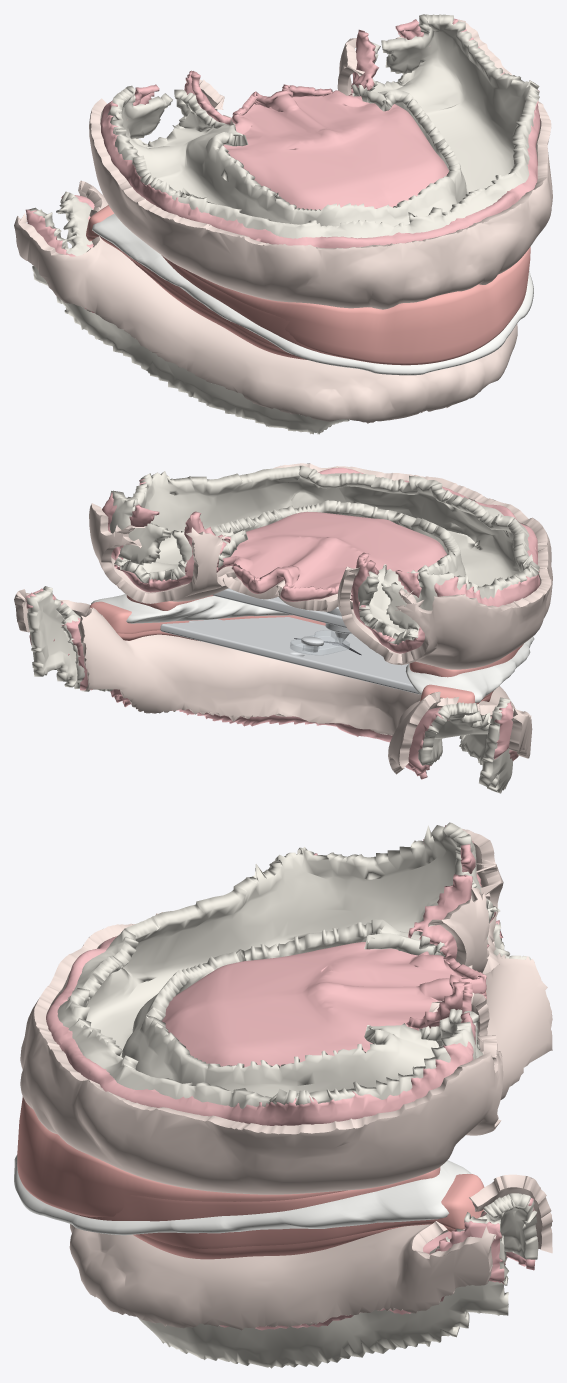
File: zahnlos.glb
3 views of the same model, one above another, from view 1: azimuth 30°, elevation 25°; view 2: azimuth 150°, elevation 25°; view 3: azimuth 270°, elevation 25° (orthographic). The views are drawn at different scales.
Visible parts, largest first — view 1: kamm_ok, basis_ok, schleimhaut_ok, basis_uk, wall_ok_reg, kamm_uk, verschluesselung, wall_ok, wall_uk_reg, wall_uk, schleimhaut_uk; view 2: kamm_ok, basis_uk, schleimhaut_ok, basis_ok, kamm_uk, registrierplatte, verschluesselung, schleimhaut_uk, wall_uk, stiftplatte, wall_ok, plaettchen; view 3: kamm_ok, basis_ok, schleimhaut_ok, basis_uk, kamm_uk, verschluesselung, wall_ok_reg, wall_uk, wall_ok, wall_uk_reg, schleimhaut_uk.
Boxes of the visible parts, x1,y1,x2,y2 form: kamm_ok: [108, 14, 539, 238]; basis_ok: [89, 19, 552, 309]; schleimhaut_ok: [100, 18, 540, 248]; basis_uk: [14, 180, 517, 423]; wall_ok_reg: [181, 247, 530, 365]; kamm_uk: [29, 191, 349, 434]; verschluesselung: [92, 213, 533, 375]; wall_ok: [161, 255, 525, 358]; wall_uk_reg: [86, 233, 306, 359]; wall_uk: [86, 205, 279, 347]; schleimhaut_uk: [25, 195, 94, 312]; kamm_ok: [109, 465, 539, 644]; basis_uk: [14, 589, 532, 774]; schleimhaut_ok: [102, 467, 540, 653]; basis_ok: [89, 463, 552, 669]; kamm_uk: [26, 586, 512, 793]; registrierplatte: [160, 617, 420, 694]; verschluesselung: [91, 594, 534, 702]; schleimhaut_uk: [25, 588, 518, 779]; wall_uk: [89, 601, 491, 704]; stiftplatte: [213, 588, 351, 633]; wall_ok: [126, 595, 523, 677]; plaettchen: [290, 630, 349, 655]; kamm_ok: [57, 822, 500, 1108]; basis_ok: [20, 828, 503, 1194]; schleimhaut_ok: [46, 825, 495, 1125]; basis_uk: [69, 953, 552, 1330]; kamm_uk: [138, 922, 538, 1368]; verschluesselung: [14, 1154, 471, 1235]; wall_ok_reg: [17, 1096, 347, 1217]; wall_uk: [142, 991, 486, 1248]; wall_ok: [66, 1167, 440, 1221]; wall_uk_reg: [133, 1209, 483, 1259]; schleimhaut_uk: [220, 920, 536, 1330].
Bounding box in the file's own units: 0.087 × 0.0459 × 0.0611.
